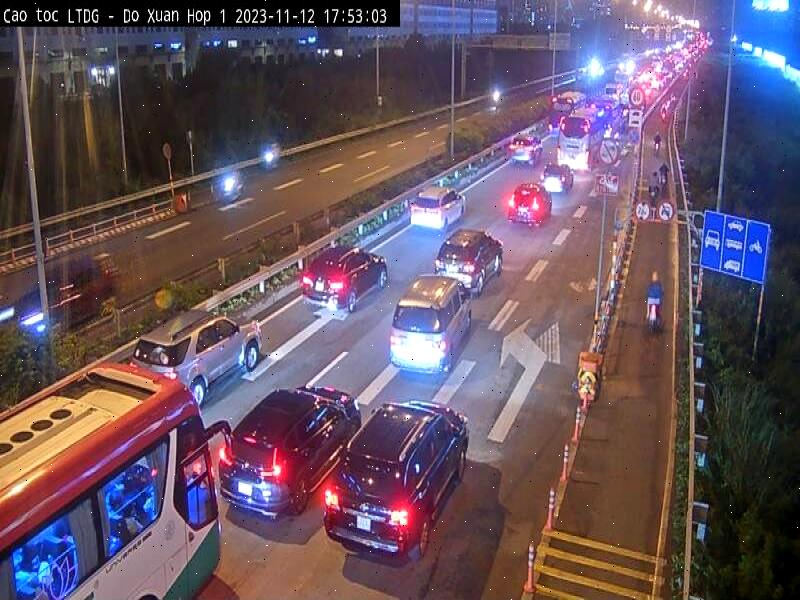bus: (0, 351, 239, 600)
